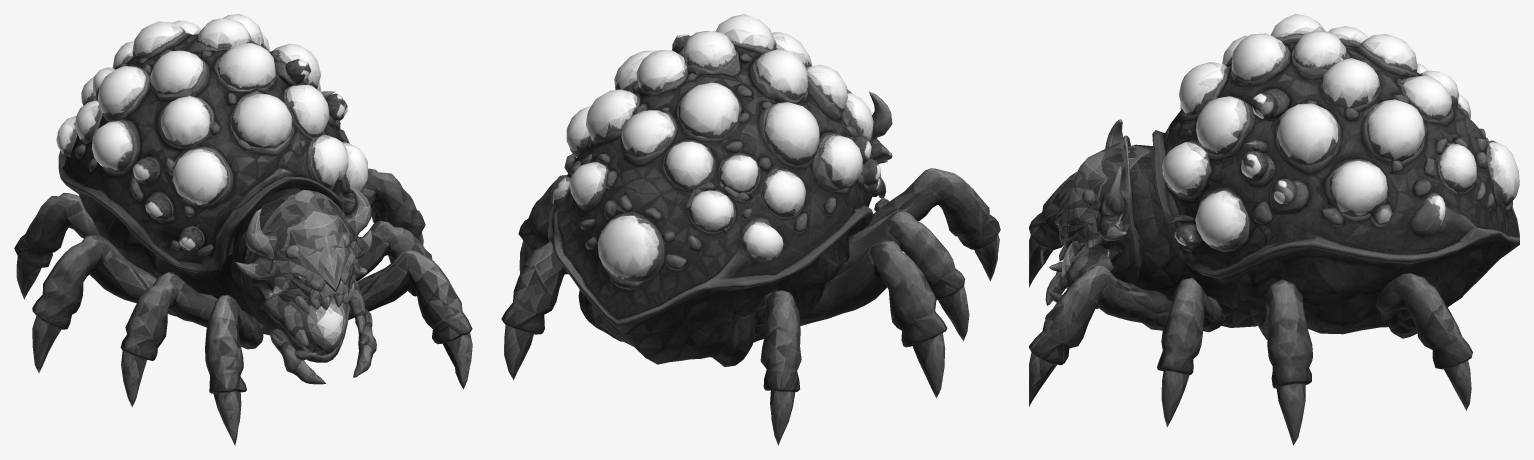
File: brood_mother.glb
3 views of the same model, side by side, from view 1: azimuth 30°, elevation 25°; view 2: azimuth 150°, elevation 25°; view 3: azimuth 270°, elevation 25° (orthographic). The views are drawn at different scales.
Size of the model in its own units: 0.9855 by 0.7184 by 1.
1 material, 1 textured.
